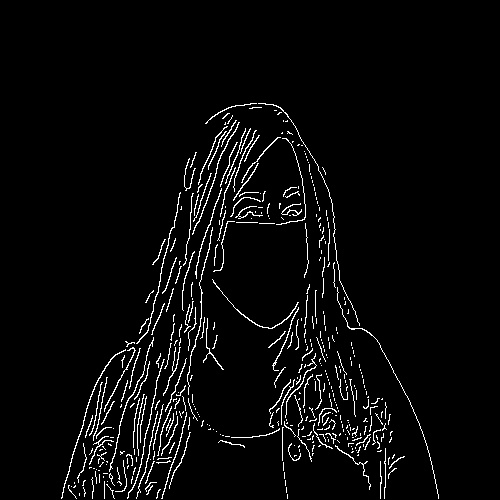mask: (214, 220, 319, 340)
